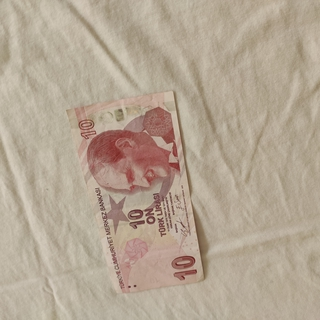10TLFront: (63, 89, 205, 294)
